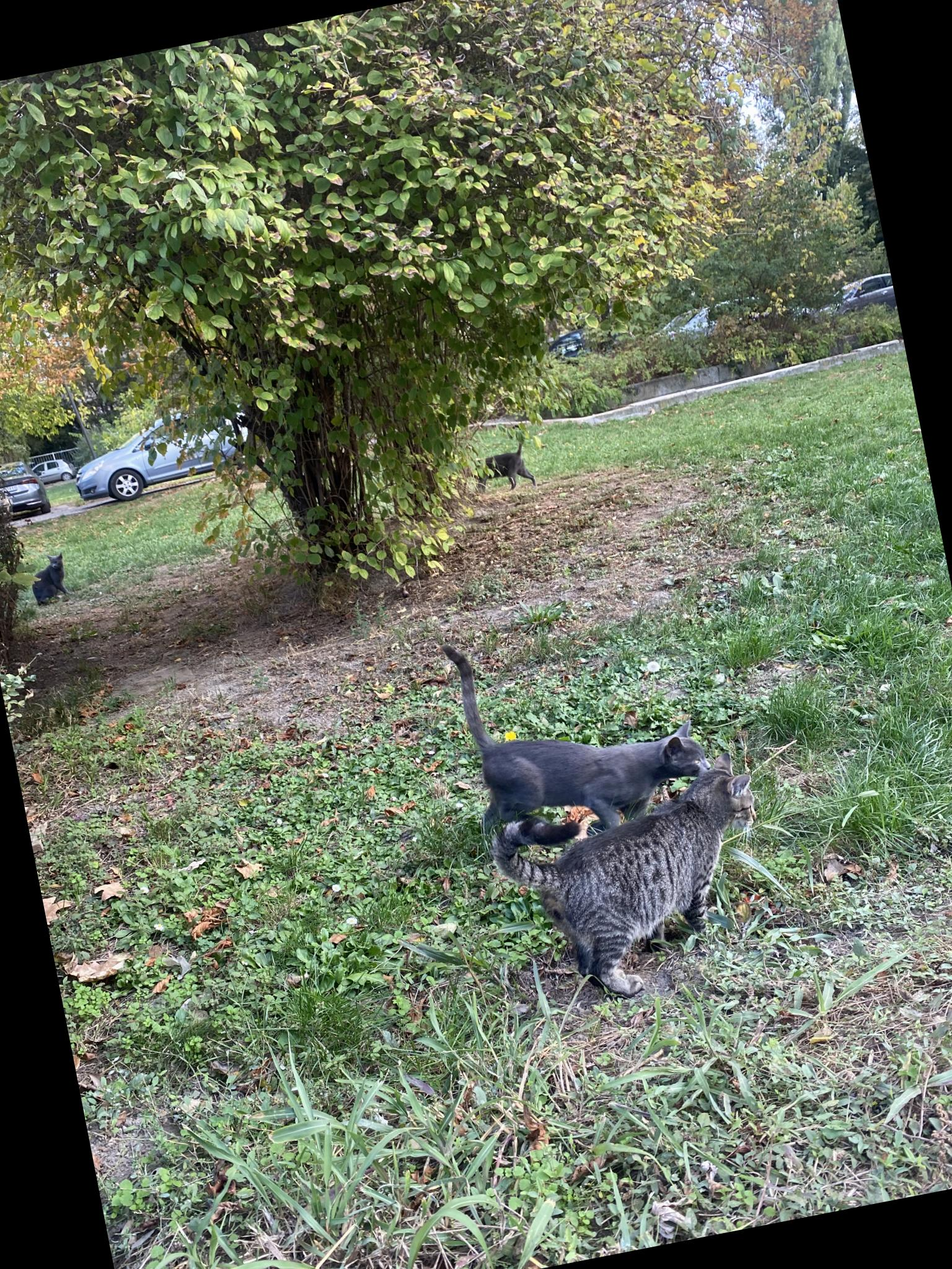macka: (483, 748, 787, 1015), (423, 597, 720, 857), (465, 423, 537, 497), (27, 551, 73, 605)
